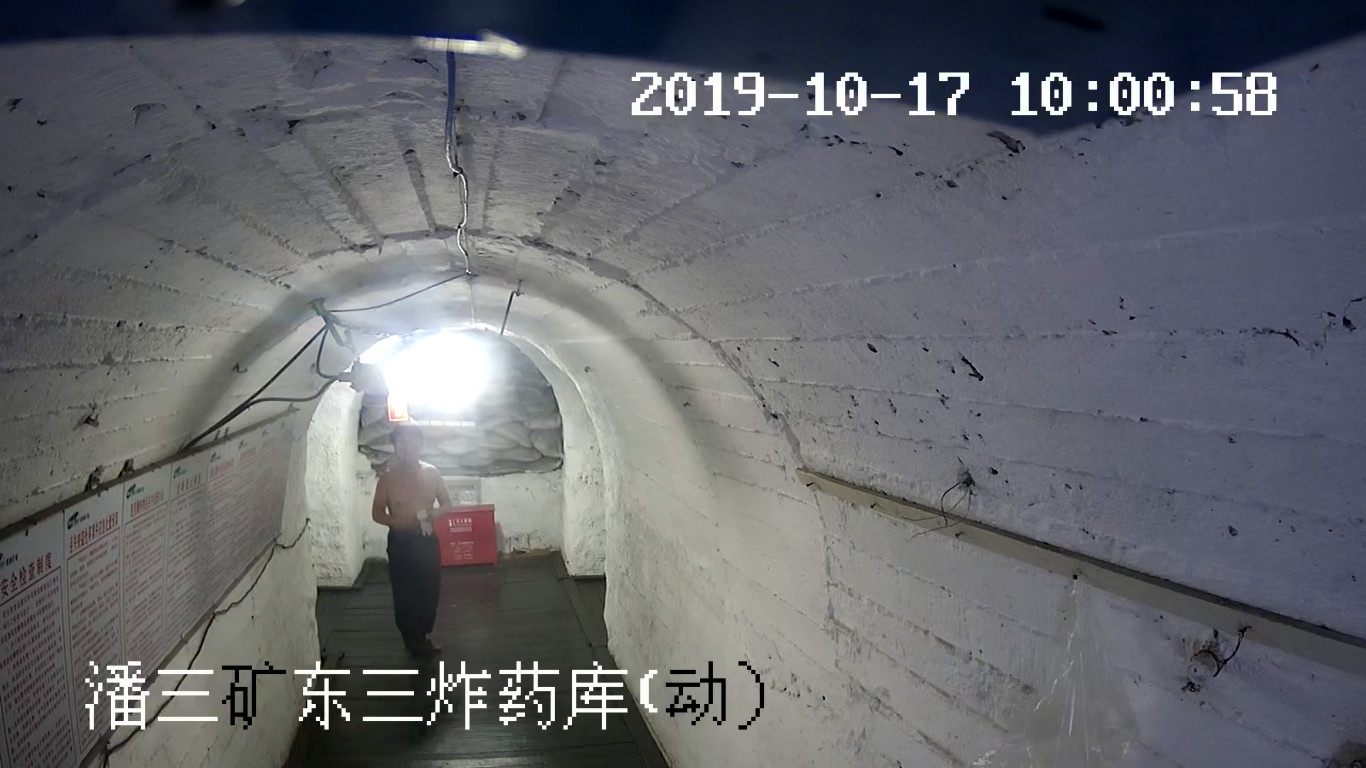helmet: (387, 415, 425, 448)
